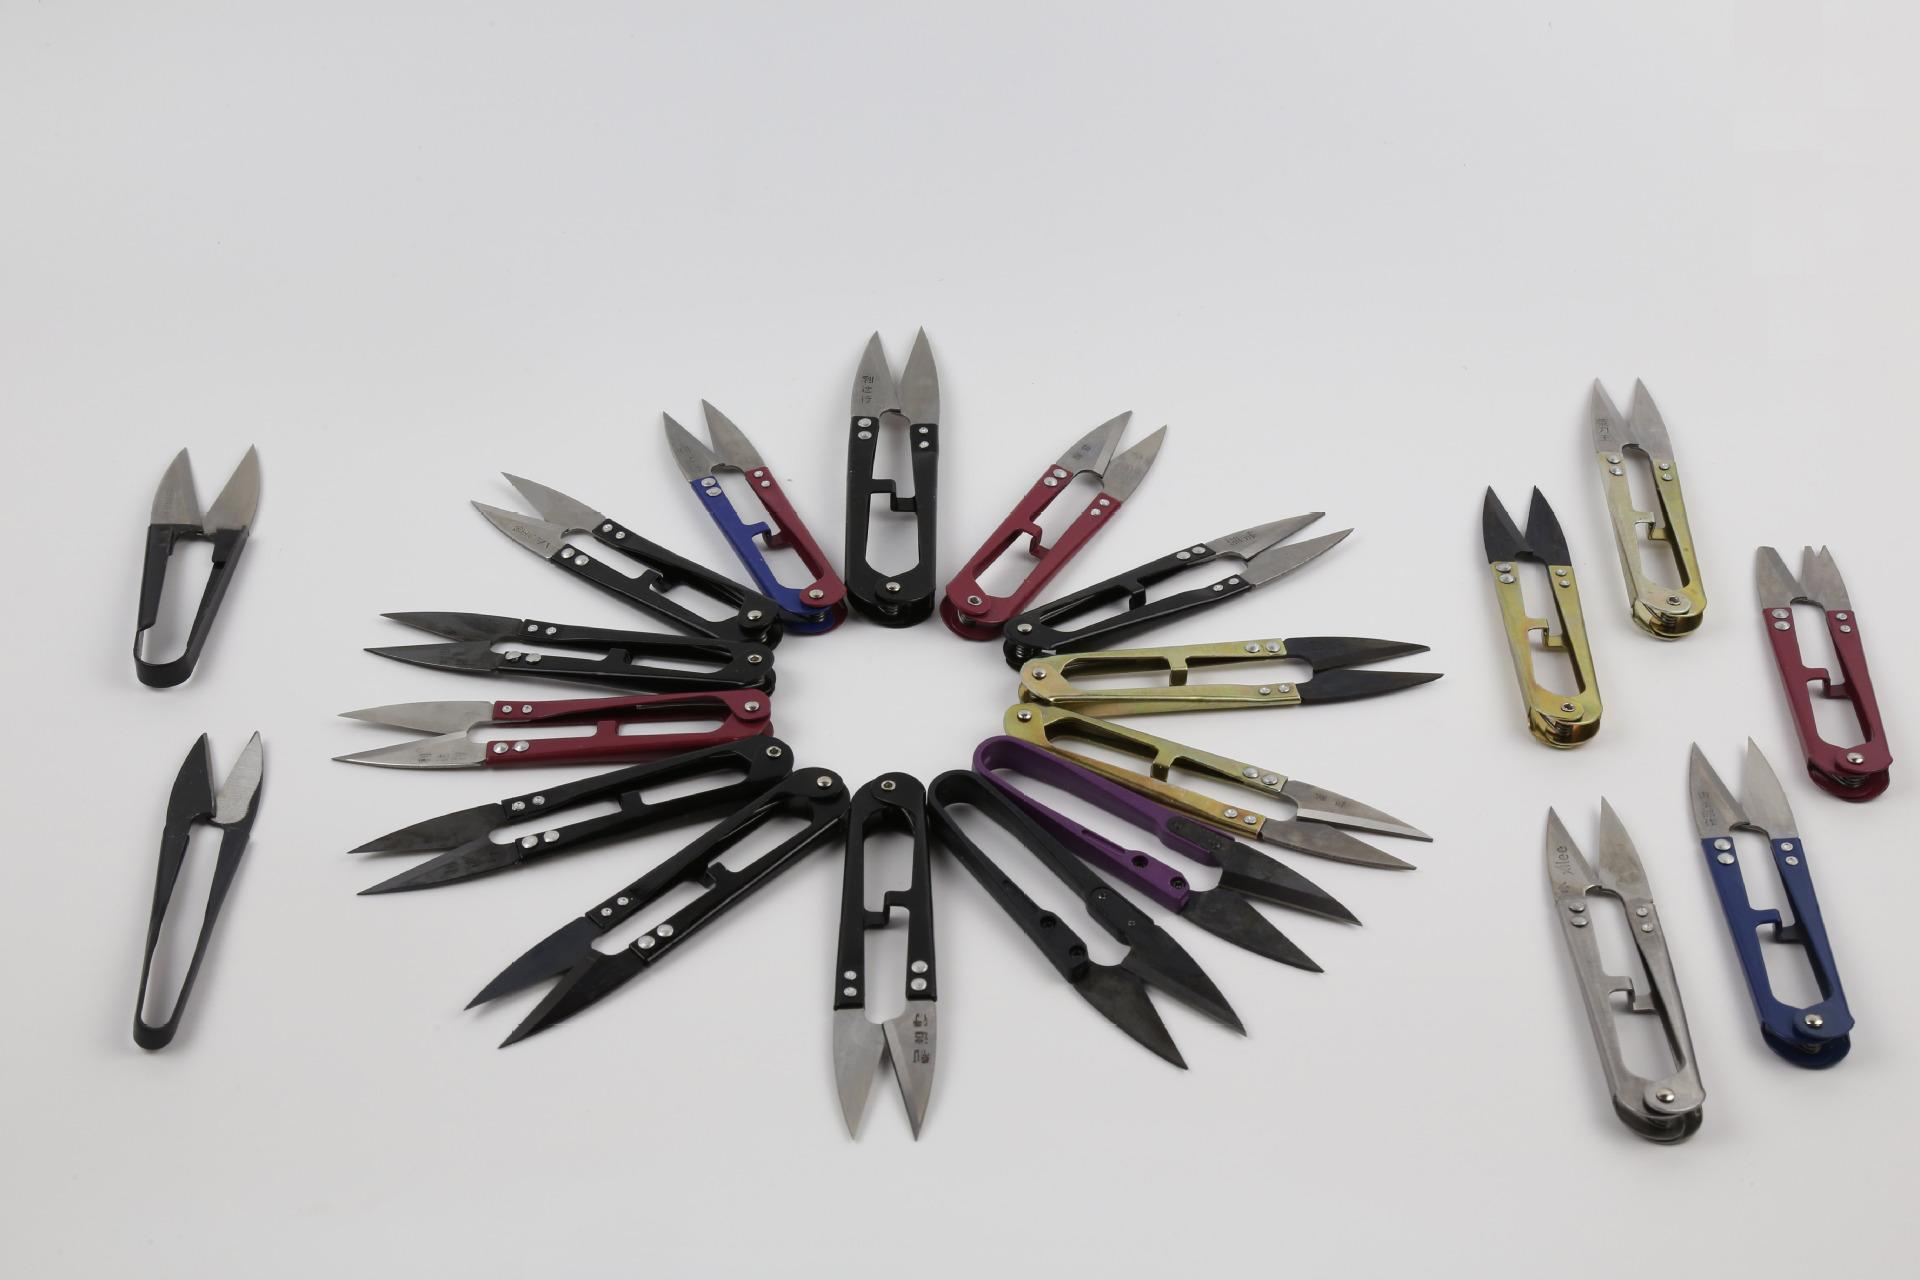scissor: (129, 291, 1890, 1163)
